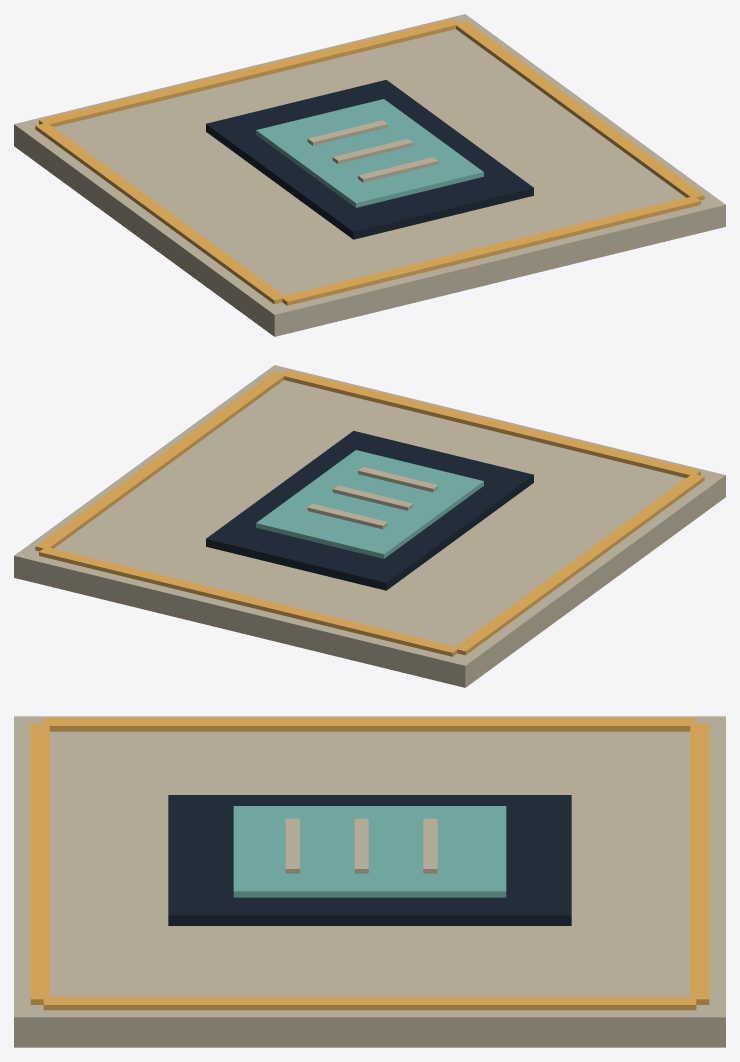
Rendered from space_die_event_face_4.glb.
3 views of the same model, one above another, from view 1: azimuth 30°, elevation 25°; view 2: azimuth 150°, elevation 25°; view 3: azimuth 270°, elevation 25° (orthographic). The views are drawn at different scales.
Parts seen in each view (by area): view 1: FixedDetails, BrassTrim; view 2: FixedDetails, BrassTrim; view 3: FixedDetails, BrassTrim.
Boxes of the visible parts, <box> form: FixedDetails: <box>14,14,725,336</box>; BrassTrim: <box>35,19,704,305</box>; FixedDetails: <box>14,365,725,687</box>; BrassTrim: <box>35,370,704,656</box>; FixedDetails: <box>14,716,725,1047</box>; BrassTrim: <box>30,718,709,1010</box>.
Size of the model in its own units: 0.6 by 0.0495 by 0.6.
